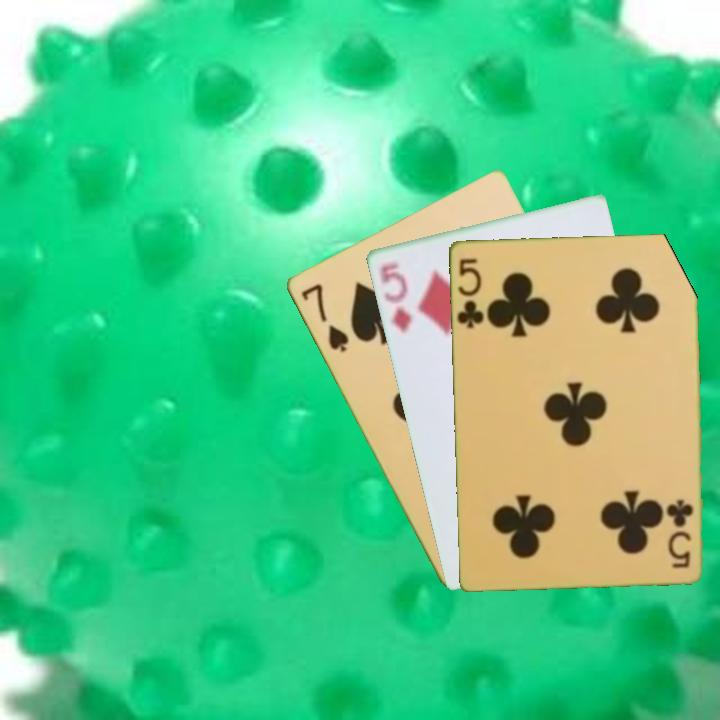5c: (453, 254, 486, 331), (665, 496, 696, 570)
5d: (375, 258, 414, 335)
7s: (297, 280, 352, 355)
